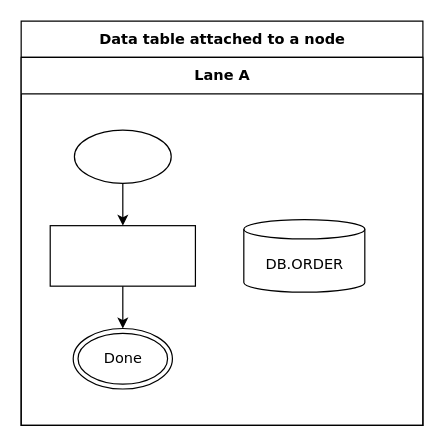
Image size: 444x446. Some labels were removed from this diagram. Each missing label, with the centre of its shape:
Enter: the point at 122,156
Write order: the point at 122,255
